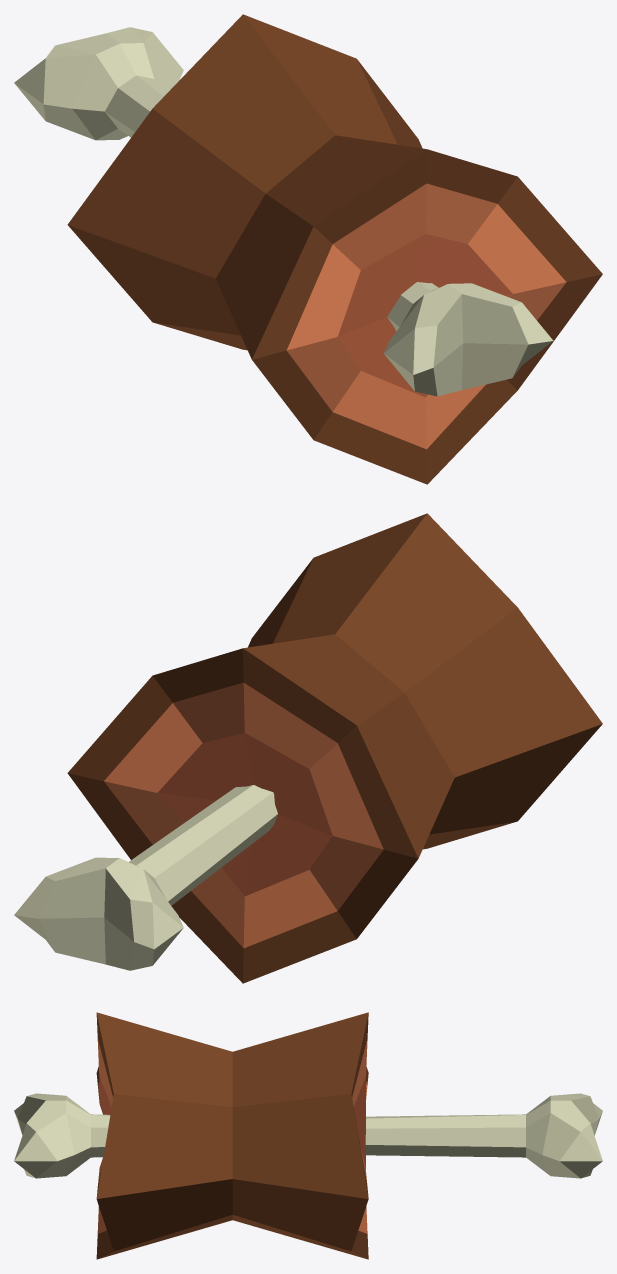
The model's file is Cooked Mystery Meat.fbx.
The picture shows the model from 3 angles, top to bottom: view 1: azimuth 30°, elevation 25°; view 2: azimuth 150°, elevation 25°; view 3: azimuth 270°, elevation 25°; orthographic projection. The views are drawn at different scales.
Parts seen in each view (by area): view 1: Cooked Mystery Meat; view 2: Cooked Mystery Meat; view 3: Cooked Mystery Meat.
Part boxes in pixels (x1=…): Cooked Mystery Meat: x1=14, y1=14, x2=602, y2=484; Cooked Mystery Meat: x1=14, y1=513, x2=602, y2=983; Cooked Mystery Meat: x1=14, y1=1012, x2=602, y2=1259.
Size of the model in its own units: 14.11 by 12.88 by 27.79.
